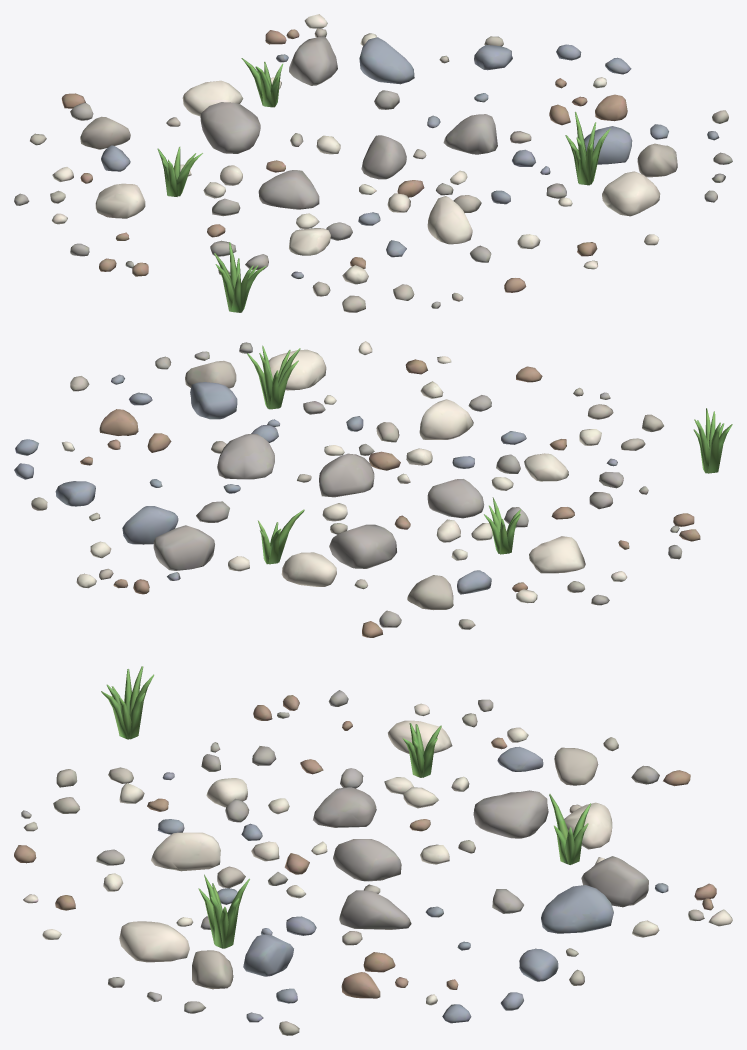
Rendered from pebbles.glb.
The picture shows the model from 3 angles, top to bottom: view 1: azimuth 30°, elevation 25°; view 2: azimuth 150°, elevation 25°; view 3: azimuth 270°, elevation 25°; orthographic projection. The views are drawn at different scales.
Parts seen in each view (by area): view 1: pebble-scatter_body; view 2: pebble-scatter_body; view 3: pebble-scatter_body.
Boxes of the visible parts, <box> form: pebble-scatter_body: <box>14,14,732,312</box>; pebble-scatter_body: <box>14,341,732,637</box>; pebble-scatter_body: <box>14,666,732,1035</box>.
Size of the model in its own units: 1.93 by 0.1793 by 1.74.
1 material, 1 textured.
